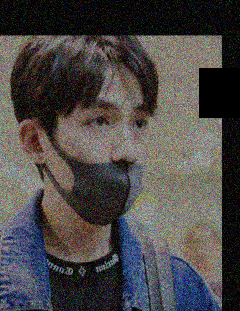mask_weared_incorrect: (57, 97, 153, 227)
